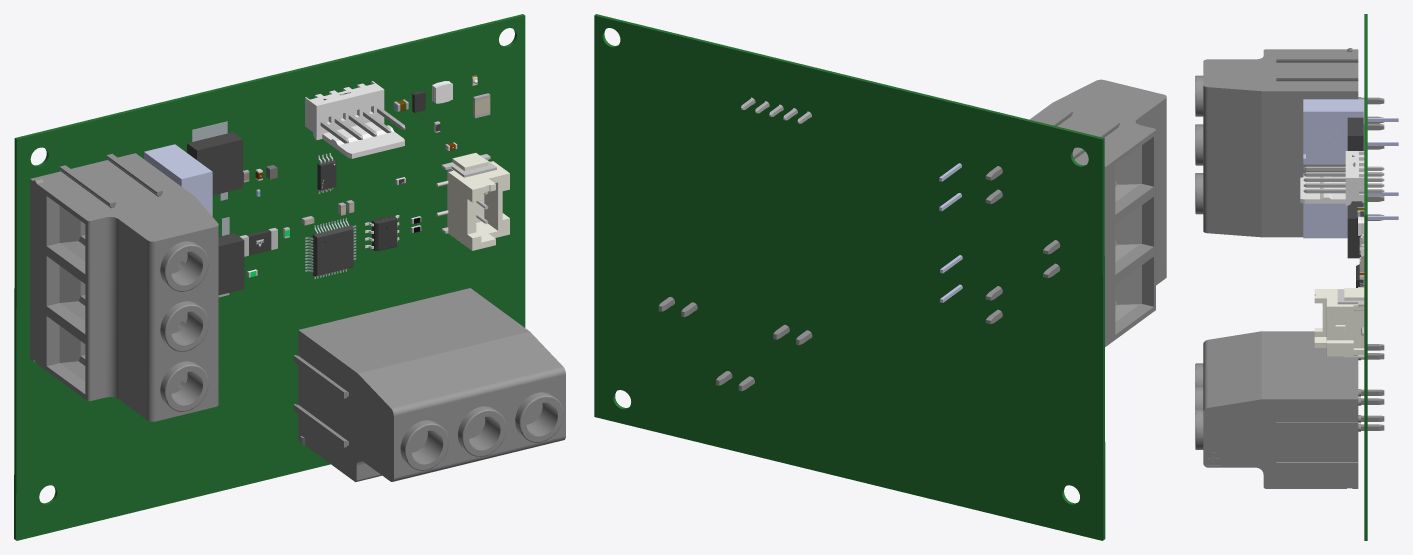
The model's file is PVA_board.glb.
The picture shows the model from 3 angles, left to right: view 1: azimuth 30°, elevation 25°; view 2: azimuth 150°, elevation 25°; view 3: azimuth 270°, elevation 25°; orthographic projection. The views are drawn at different scales.
Parts seen in each view (by area): view 1: empty_2, empty_28, empty_29, empty_180, empty_160, empty_3, empty_15, empty_185, empty_7, empty_58; view 2: empty_2, empty_28, empty_29; view 3: empty_29, empty_28, empty_15, empty_180, empty_2, empty_11, empty_160, empty_7, empty_3, empty_165, empty_163, empty_161 (+2 smaller).
Part boxes in pixels (x1=…): empty_2: x1=14, y1=14, x2=525, y2=540; empty_28: x1=30, y1=153, x2=218, y2=421; empty_29: x1=293, y1=288, x2=565, y2=481; empty_180: x1=447, y1=153, x2=509, y2=250; empty_160: x1=305, y1=81, x2=404, y2=158; empty_3: x1=187, y1=132, x2=242, y2=195; empty_15: x1=144, y1=144, x2=212, y2=216; empty_185: x1=312, y1=225, x2=353, y2=275; empty_7: x1=218, y1=233, x2=244, y2=295; empty_58: x1=372, y1=215, x2=397, y2=250; empty_2: x1=594, y1=14, x2=1105, y2=540; empty_28: x1=985, y1=79, x2=1166, y2=346; empty_29: x1=658, y1=297, x2=812, y2=391; empty_29: x1=1195, y1=331, x2=1384, y2=488; empty_28: x1=1195, y1=48, x2=1384, y2=237; empty_15: x1=1303, y1=99, x2=1398, y2=164; empty_180: x1=1314, y1=288, x2=1364, y2=357; empty_2: x1=1364, y1=14, x2=1367, y2=540; empty_11: x1=1303, y1=173, x2=1398, y2=238; empty_160: x1=1300, y1=151, x2=1364, y2=205; empty_7: x1=1347, y1=201, x2=1363, y2=258; empty_3: x1=1347, y1=117, x2=1363, y2=150; empty_165: x1=1303, y1=189, x2=1384, y2=193; empty_163: x1=1303, y1=183, x2=1384, y2=187; empty_161: x1=1303, y1=177, x2=1384, y2=181.
Size of the model in its own units: 90.17 by 67.95 by 38.45.
